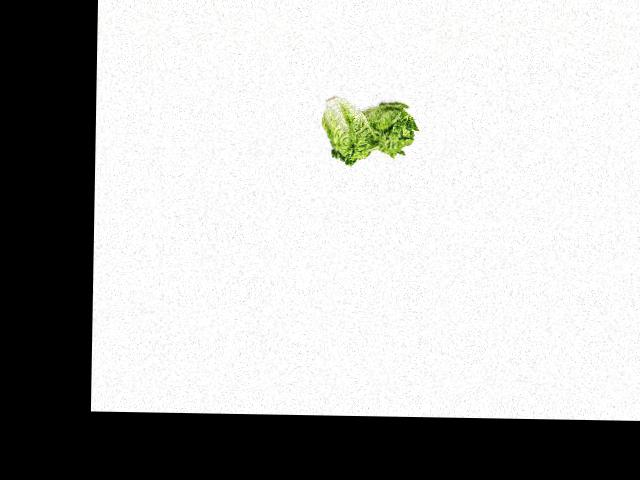lettuce: (357, 93, 419, 159)
